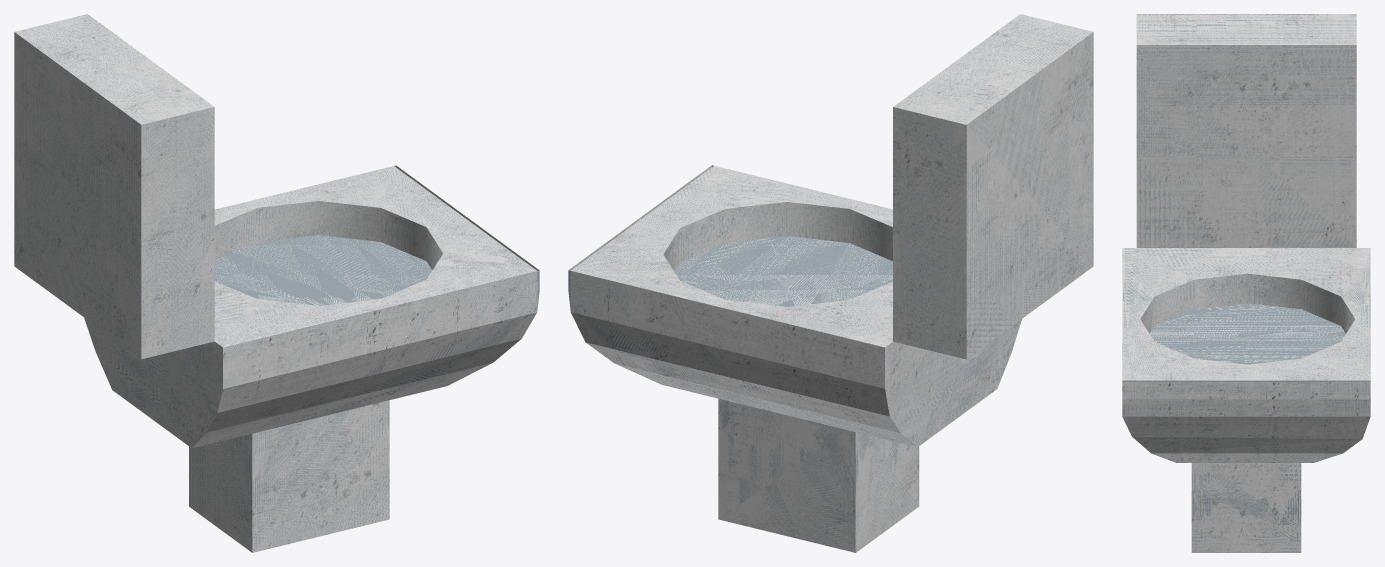
File: inodoro.fbx
3 renders of one model, left to right at view 1: azimuth 30°, elevation 25°; view 2: azimuth 150°, elevation 25°; view 3: azimuth 270°, elevation 25°, orthographic. The views are drawn at different scales.
Parts seen in each view (by area): view 1: Model; view 2: Model; view 3: Model.
Boxes of the visible parts, x1,y1,x2,y2 form: Model: (14,14,539,552); Model: (568,14,1093,552); Model: (1122,14,1370,552).
Size of the model in its own units: 0.957 by 1.14 by 0.6101.
